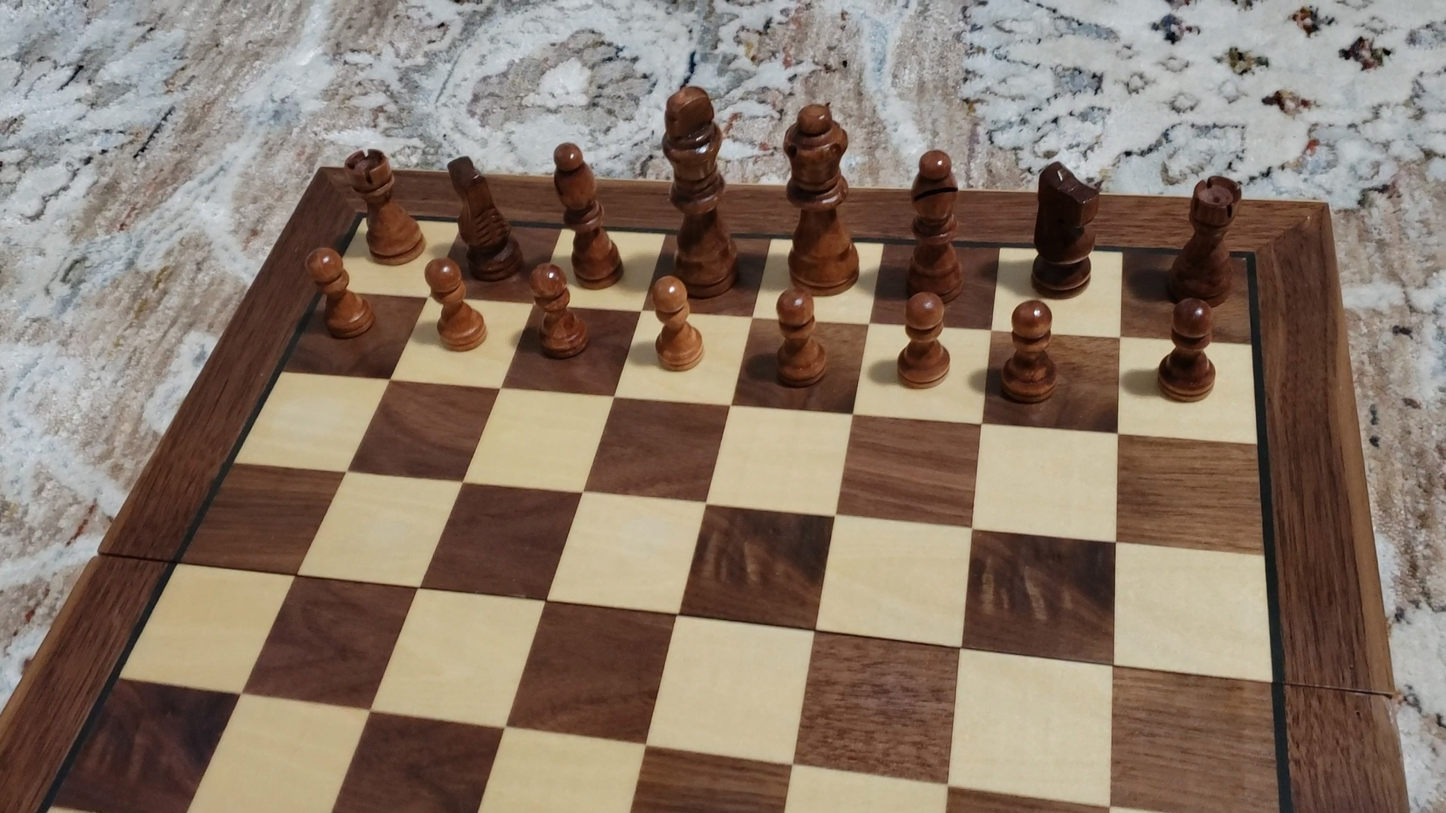black-bishop: (550, 139, 623, 288), (907, 146, 962, 303)
black-king: (659, 81, 739, 299)
black-knight: (1028, 158, 1103, 296), (447, 154, 524, 282)
black-pawn: (304, 244, 376, 342), (1157, 297, 1218, 404), (999, 298, 1060, 405), (423, 256, 486, 353), (529, 262, 589, 361), (773, 287, 829, 390), (648, 273, 703, 373), (898, 290, 951, 388)
black-queen: (776, 98, 860, 295)
black-rook: (1164, 174, 1243, 305), (342, 147, 424, 264)
